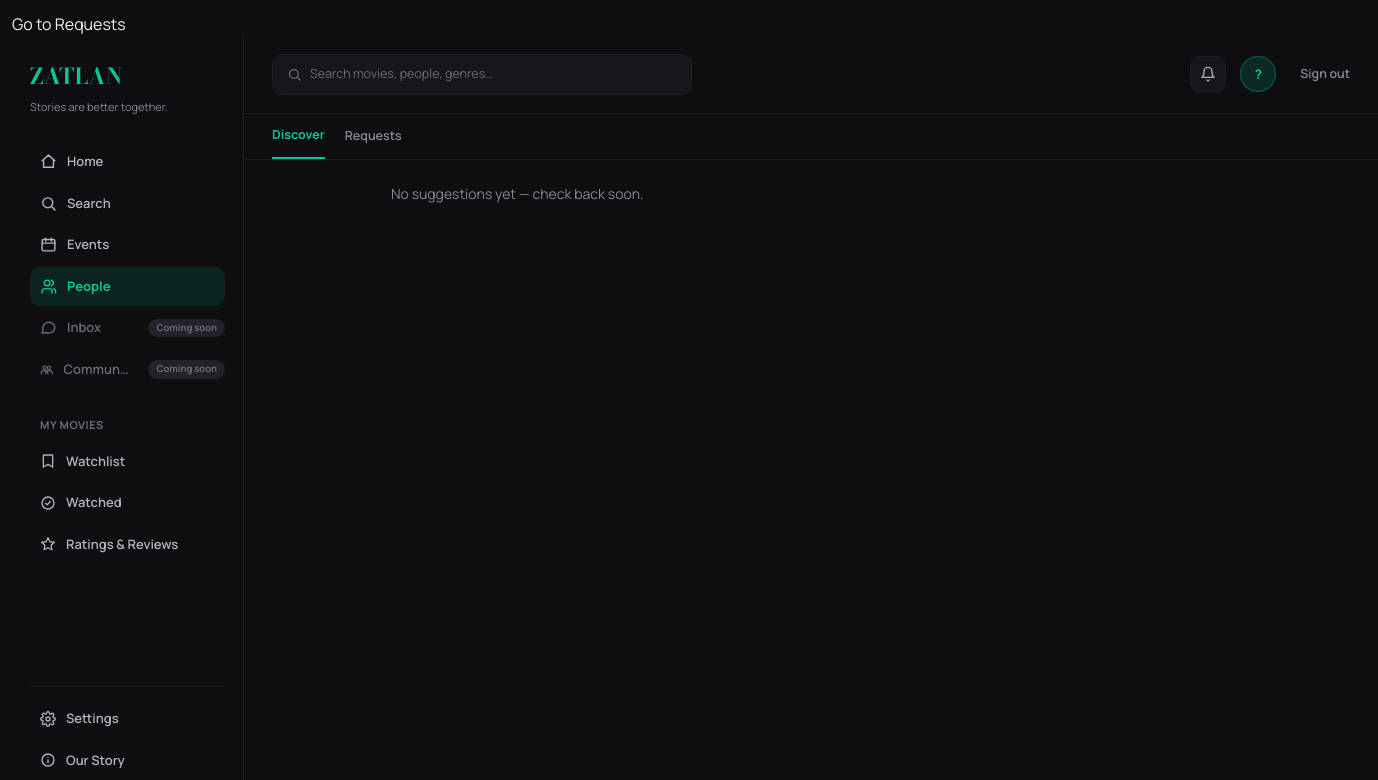
Test: PeopleDiscovery › Requests tab › switches to the Requests tab on a same-page ?tab= navigation, not just on first mount
Click the link "Go to Requests": point(69, 24) [12,13,126,35]
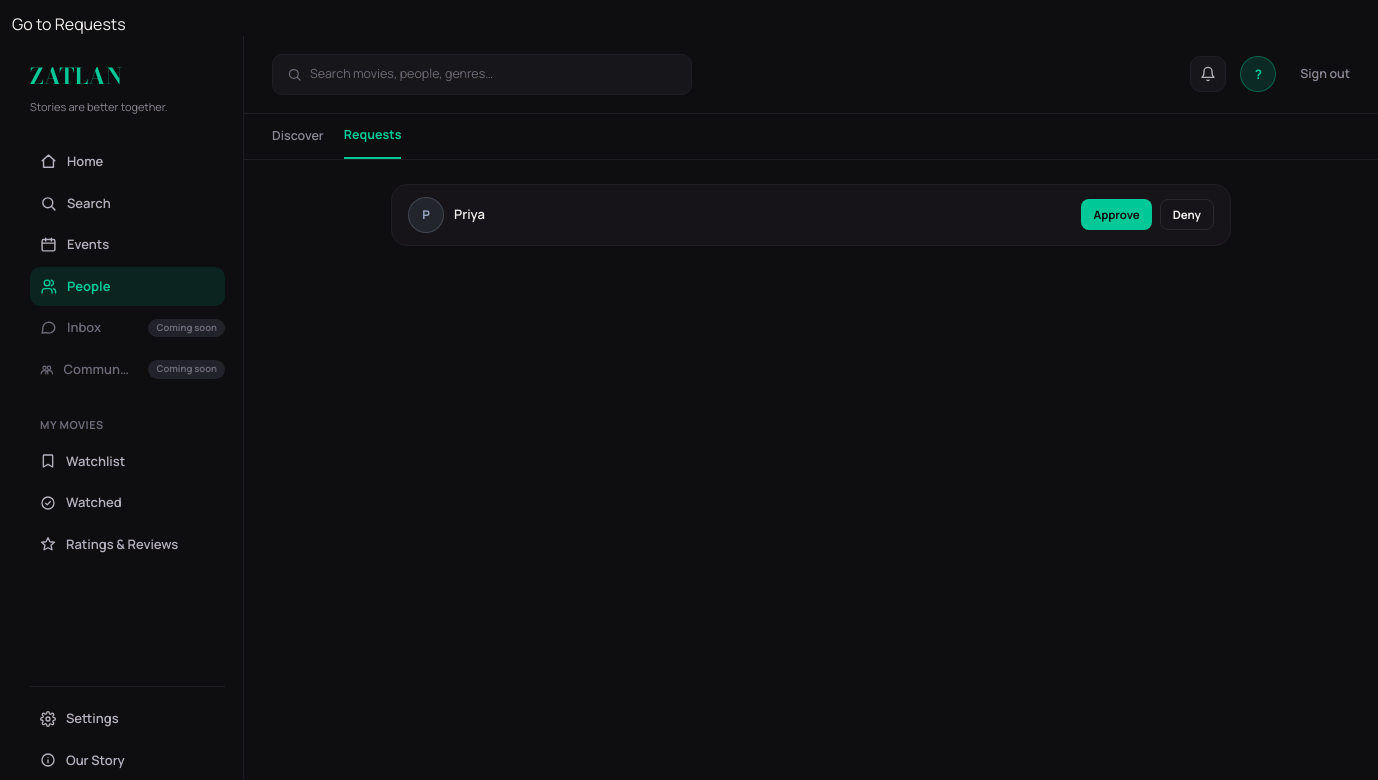
Now the text "Priya" is shown, box [454,205,485,224]
